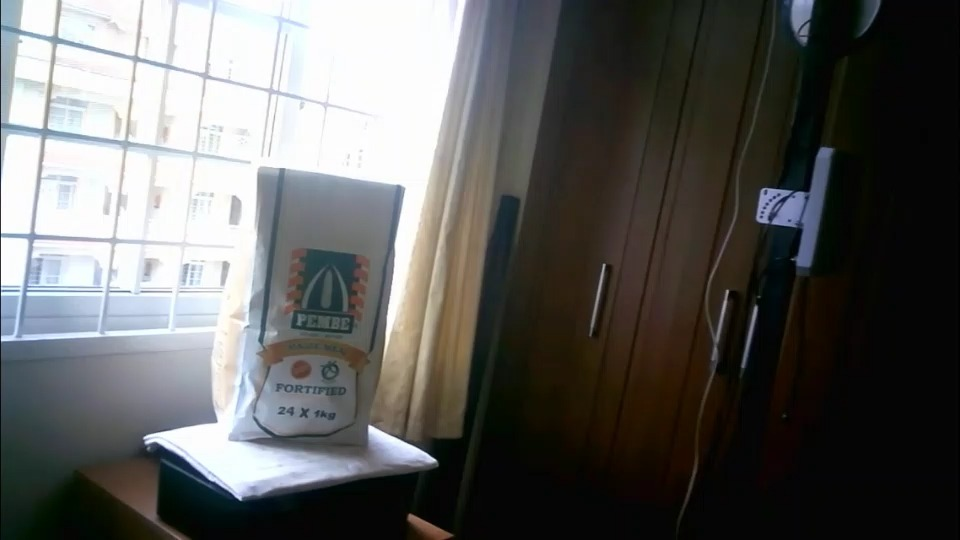maize_flour_green_label: (210, 168, 401, 447)
